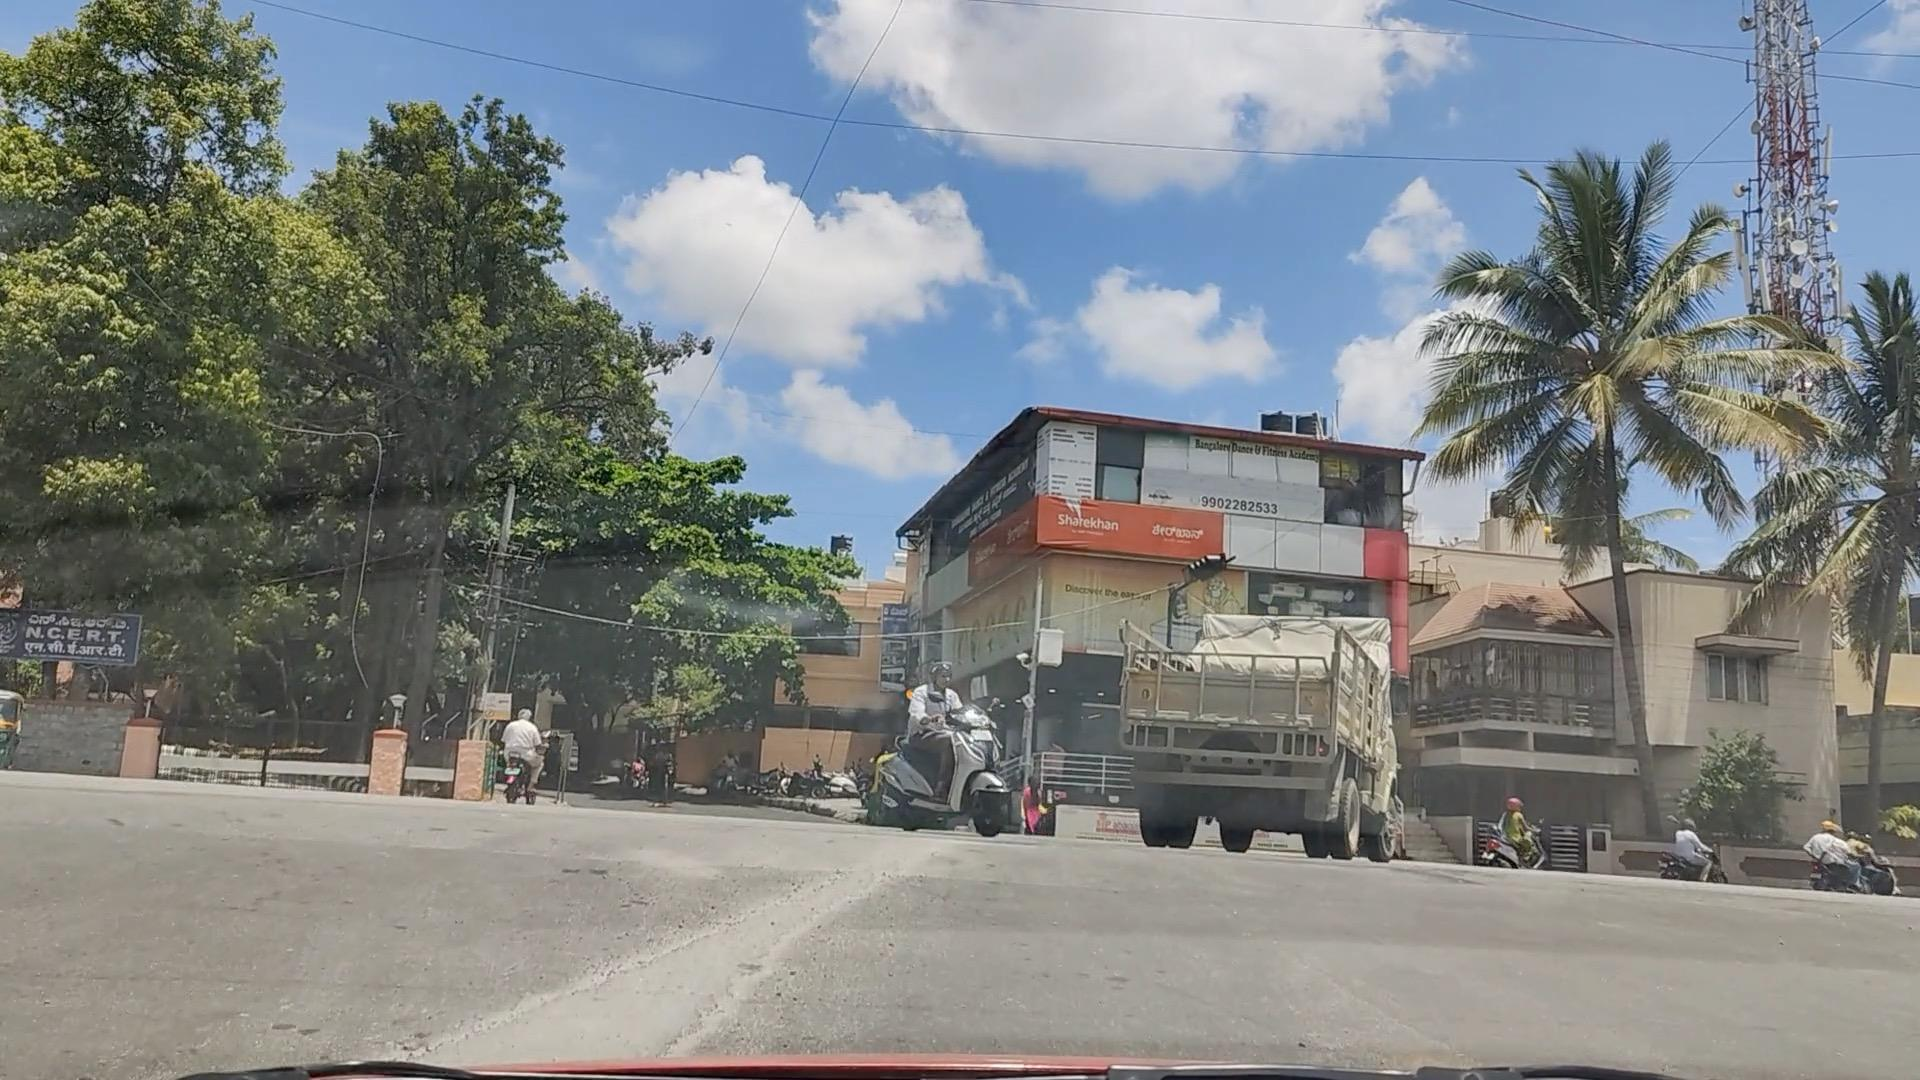HMV: (1133, 587, 1369, 851)
LMV: (864, 670, 1034, 824)
RoadDamages: (347, 836, 840, 1075)
